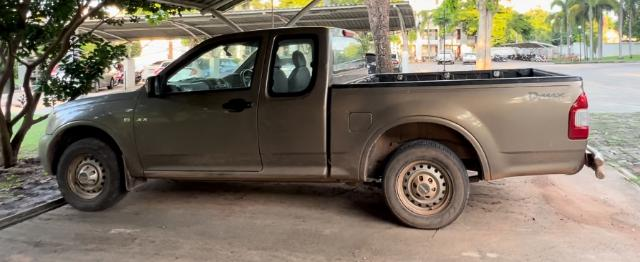pickup-truck: (35, 25, 606, 229)
